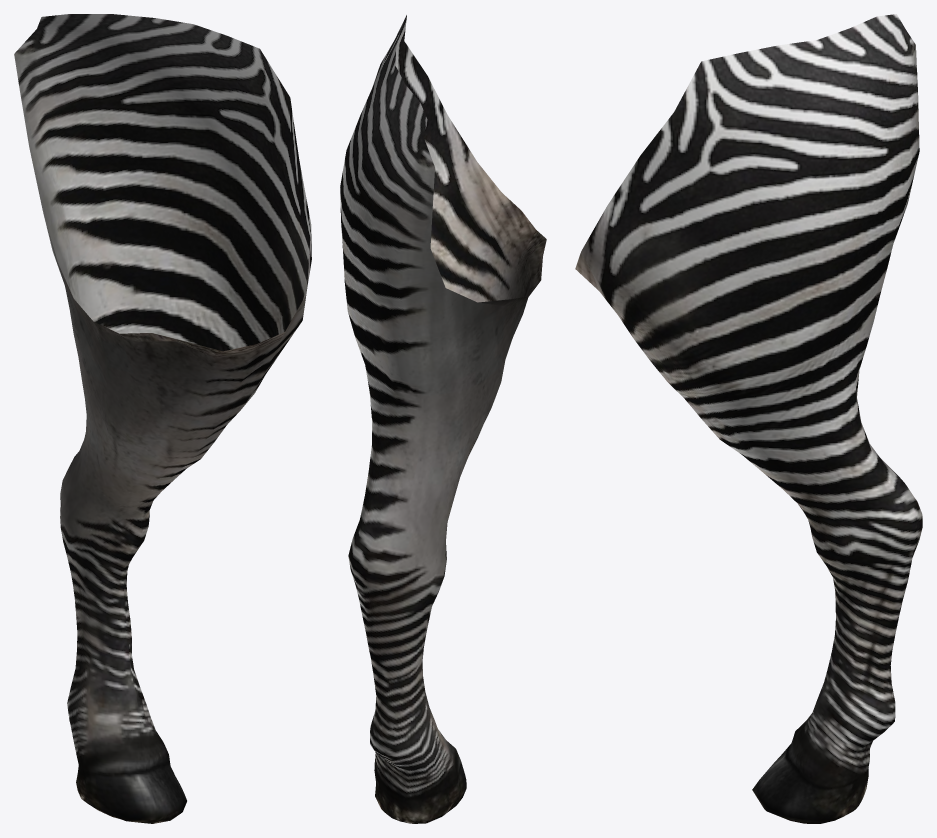
Rendered from zB_leftleg.obj.
3 renders of one model, left to right at view 1: azimuth 30°, elevation 25°; view 2: azimuth 150°, elevation 25°; view 3: azimuth 270°, elevation 25°, orthographic. The views are drawn at different scales.
Visible parts, largest first — view 1: Object_50.003; view 2: Object_50.003; view 3: Object_50.003.
Part boxes in pixels (x1,y1,x2,y2): Object_50.003: [14, 14, 311, 823]; Object_50.003: [340, 15, 546, 823]; Object_50.003: [575, 14, 922, 823].
Size of the model in its own units: 7.07 by 30.89 by 12.38.
Materials: 1 (1 with a texture image).
